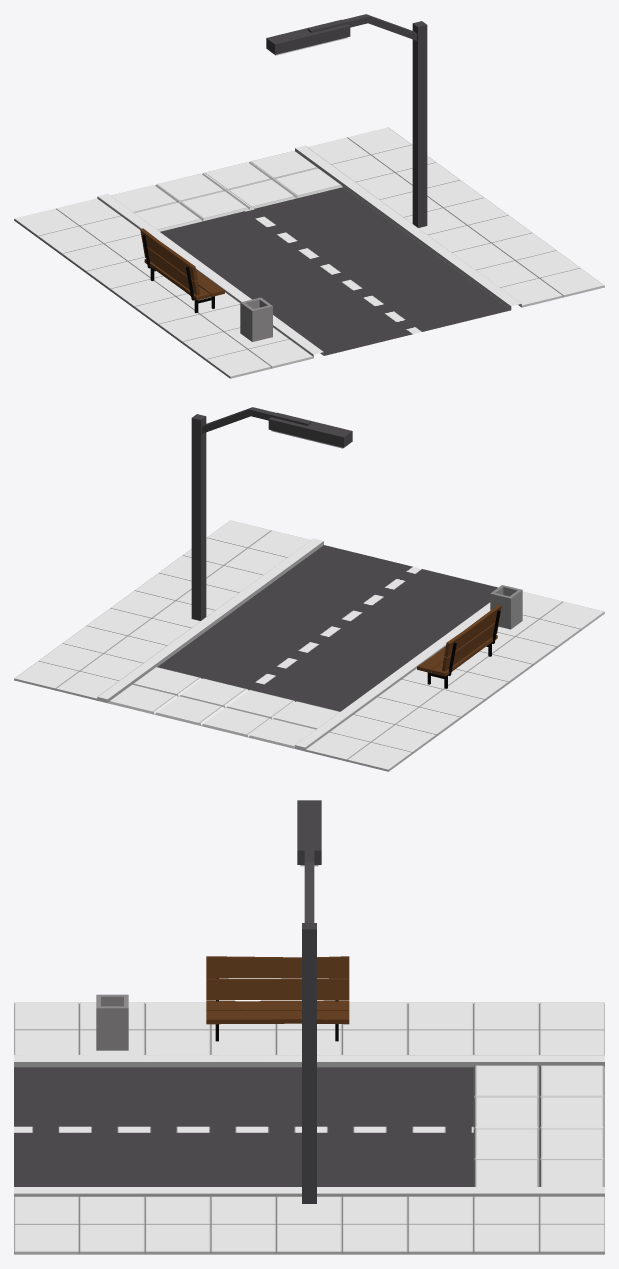
File: RoadC.fbx
3 views of the same model, one above another, from view 1: azimuth 30°, elevation 25°; view 2: azimuth 150°, elevation 25°; view 3: azimuth 270°, elevation 25° (orthographic). The views are drawn at different scales.
Visible parts, largest first — view 1: Road_G; view 2: Road_G; view 3: Road_G.
Boxes of the visible parts, <box> form: Road_G: <box>14,14,604,378</box>; Road_G: <box>14,407,604,771</box>; Road_G: <box>14,800,604,1254</box>.
Bounding box in the file's own units: 2000 × 1144 × 2000.
